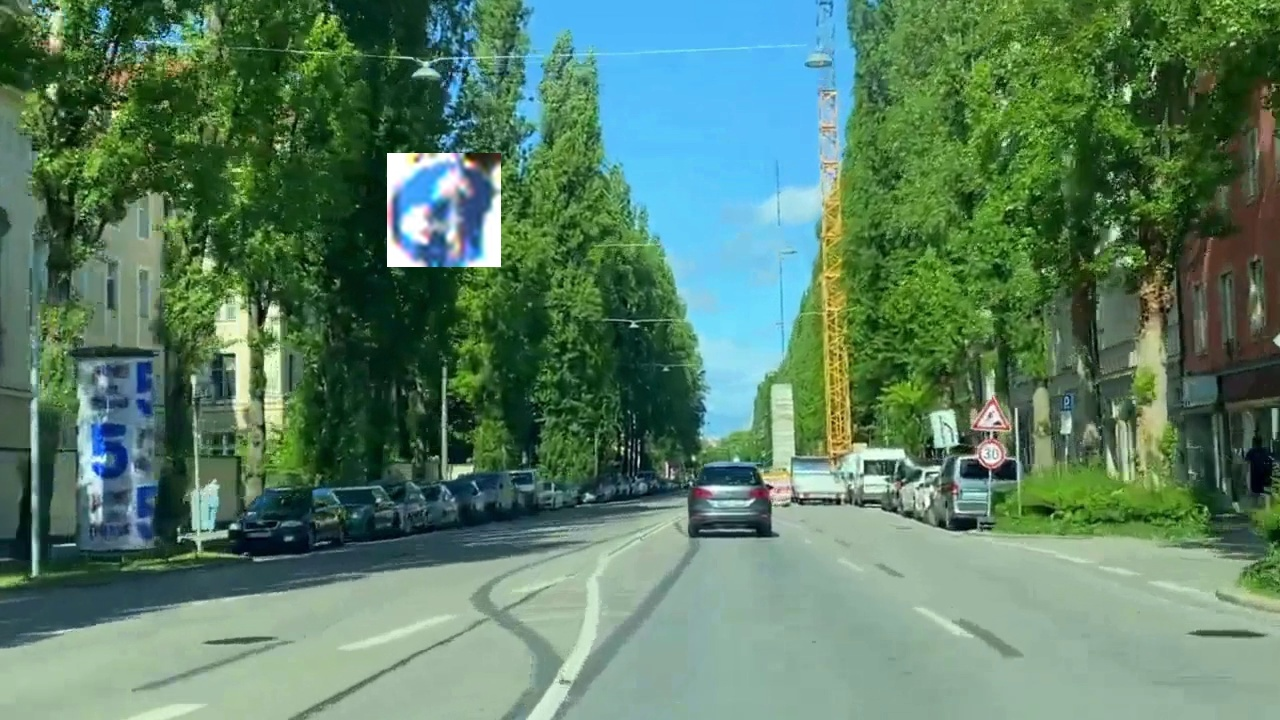Straight/left: (387, 153, 501, 267)
